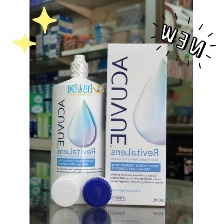book: (101, 40, 171, 212)
cleaning_solution: (47, 53, 106, 208)
